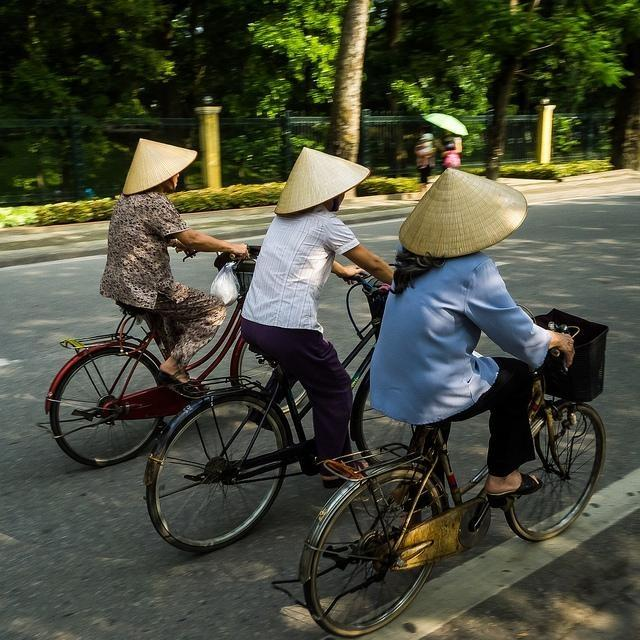bicycle: (292, 302, 610, 632), (149, 264, 388, 554), (44, 252, 309, 468)
